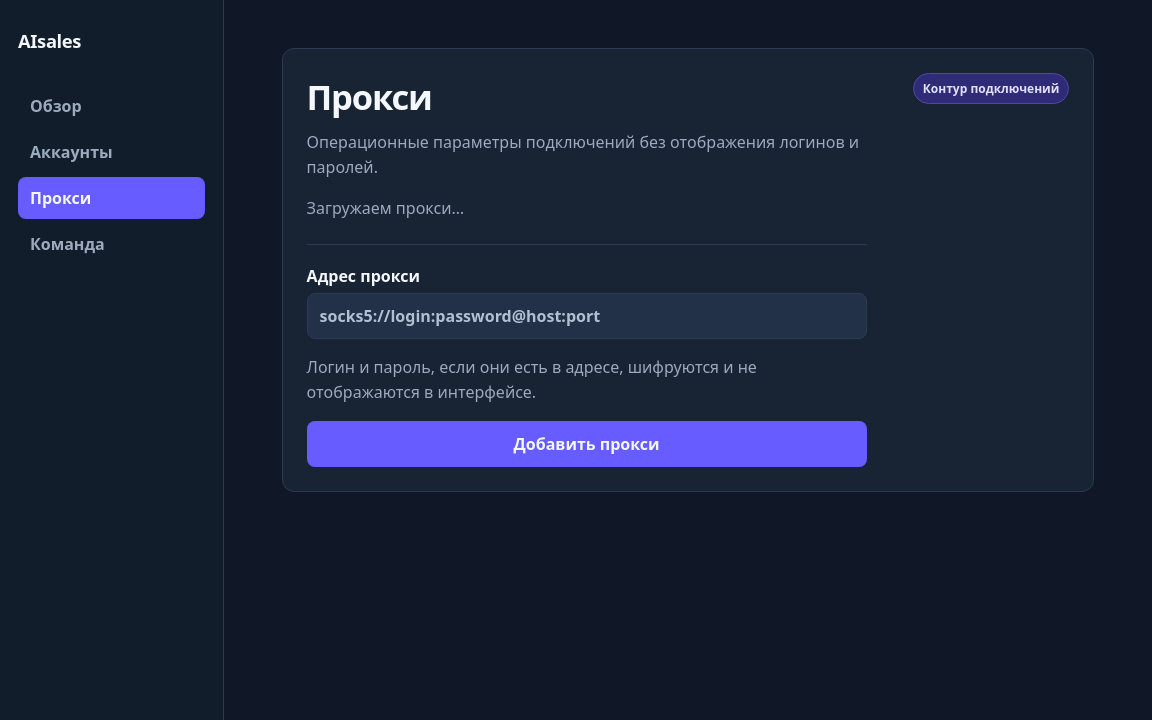
Test case: App › adds a proxy through the owner workspace without rendering its credentials
Expected: the heading "Прокси" is shown, top-left (307, 73), bottom-right (432, 120)
Type "https://user:secret-password@edge.example:443" into the field labelled "Адрес прокси".
click(587, 316); type("https://user:secret-password@edge.example:443")  # box top-left (307, 293), bottom-right (867, 339)
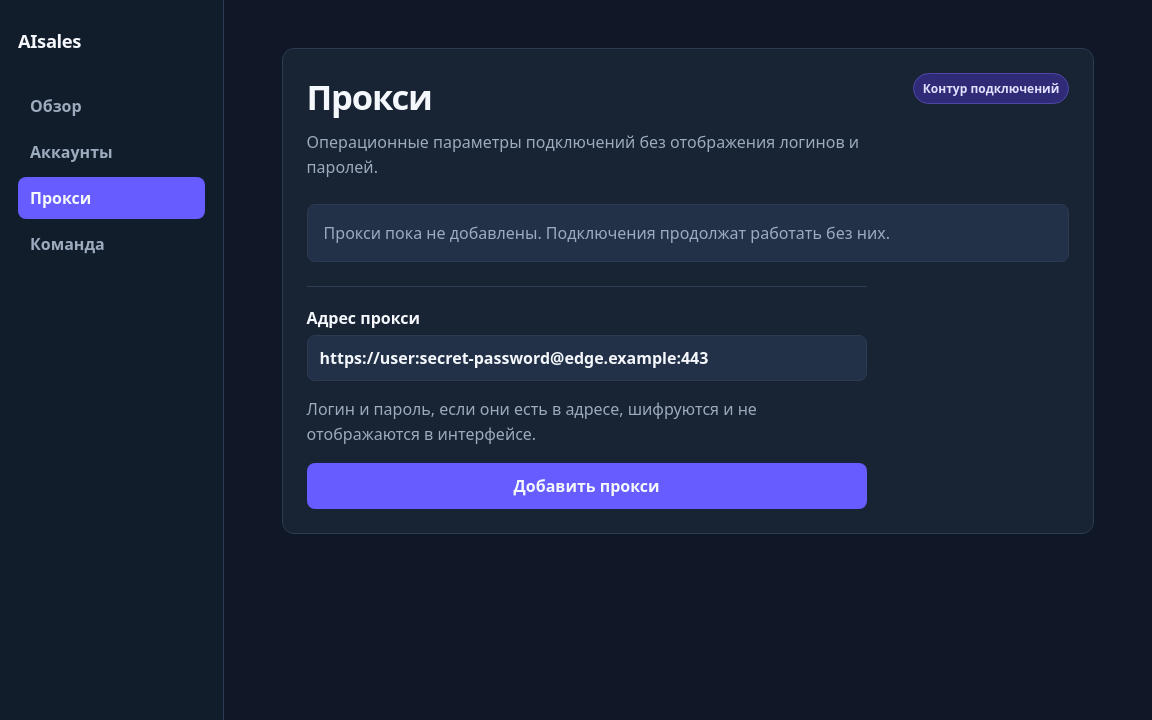
Click the button "Добавить прокси".
click(587, 486)  # box top-left (307, 463), bottom-right (867, 509)
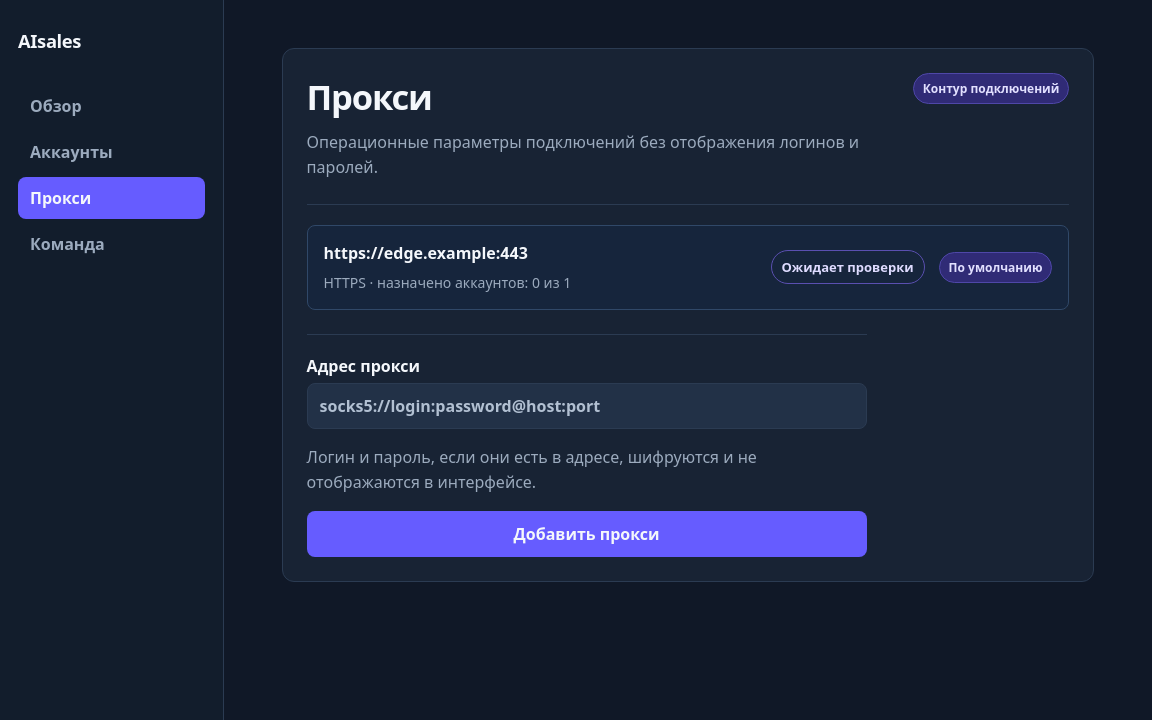
Expected: the text "secret-password" is not shown
Expected: the heading "https://edge.example:443" is shown, top-left (324, 242), bottom-right (528, 264)
